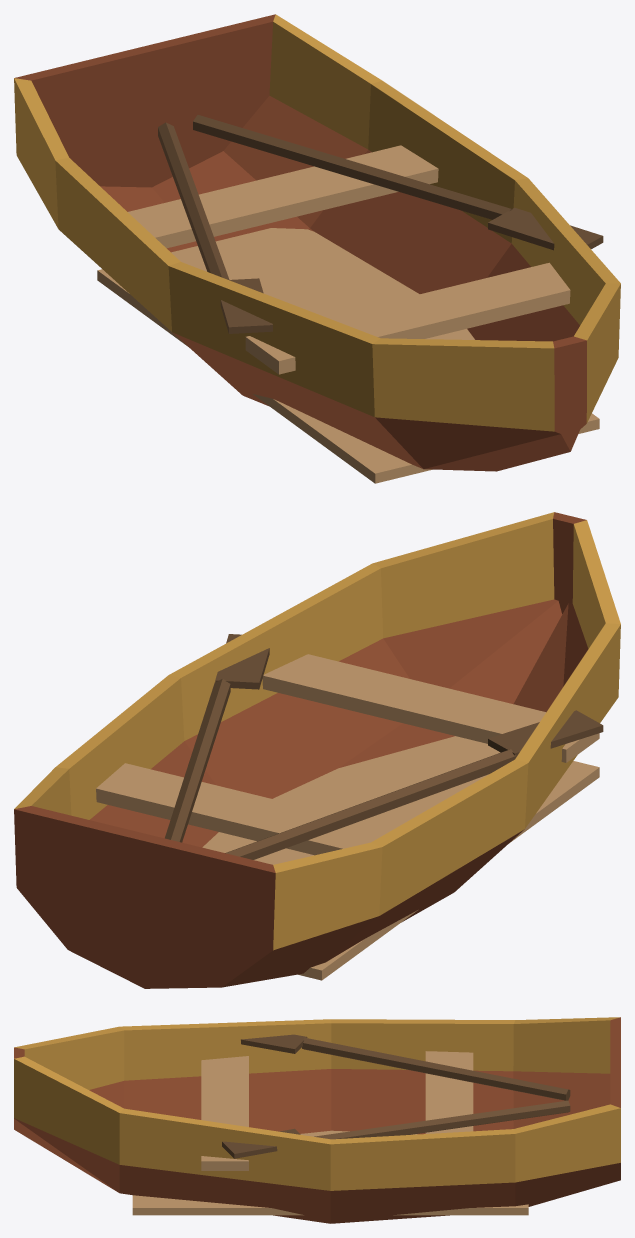
File: Rowboat.glb
The picture shows the model from 3 angles, top to bottom: view 1: azimuth 30°, elevation 25°; view 2: azimuth 150°, elevation 25°; view 3: azimuth 270°, elevation 25°; orthographic projection. The views are drawn at different scales.
Parts seen in each view (by area): view 1: Rowboat; view 2: Rowboat; view 3: Rowboat.
Boxes of the visible parts, x1,y1,x2,y2 form: Rowboat: (14, 14, 620, 483); Rowboat: (14, 512, 620, 988); Rowboat: (14, 1017, 620, 1223).
Size of the model in its own units: 1.17 by 0.6203 by 2.3.
1 material, 1 textured.
